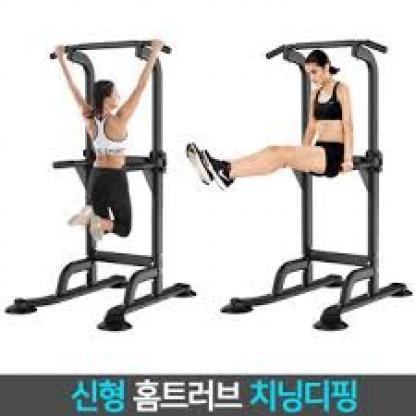chinning dipping: (223, 37, 413, 334), (5, 38, 186, 332)
